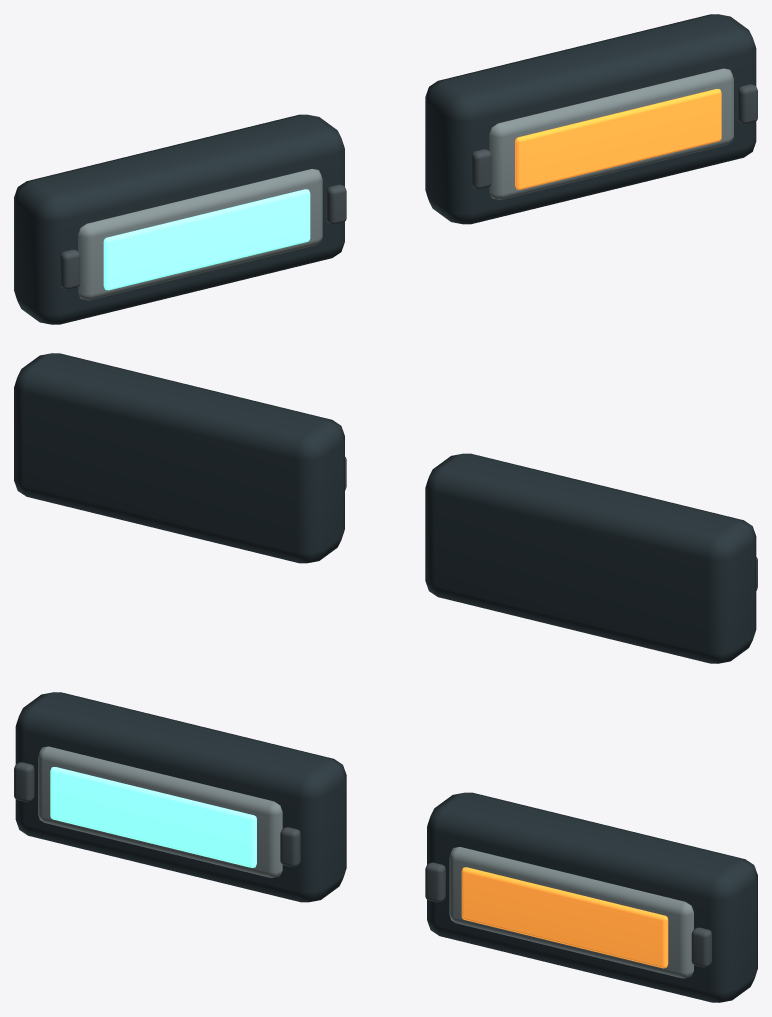
File: wsc-kit-008-puzzle-indicators.glb
3 views of the same model, one above another, from view 1: azimuth 30°, elevation 25°; view 2: azimuth 150°, elevation 25°; view 3: azimuth 330°, elevation 25° (orthographic).
Visible parts, largest first — view 1: Indicator · back shell.001, Indicator · back shell, Indicator · status insert, Indicator · status insert.001, Indicator · rail, Indicator · rail.001, Indicator · fastener.001, Indicator · fastener.003, Indicator · fastener, Indicator · fastener.002; view 2: Indicator · back shell, Indicator · back shell.001; view 3: Indicator · back shell, Indicator · back shell.001, Indicator · status insert.001, Indicator · status insert, Indicator · rail.001, Indicator · rail, Indicator · fastener.002, Indicator · fastener, Indicator · fastener.001, Indicator · fastener.003.
Boxes of the visible parts, x1,y1,x2,y2 form: Indicator · back shell.001: (425, 14, 756, 224); Indicator · back shell: (14, 114, 344, 324); Indicator · status insert: (103, 189, 310, 290); Indicator · status insert.001: (515, 89, 721, 189); Indicator · rail: (78, 169, 322, 300); Indicator · rail.001: (489, 68, 733, 199); Indicator · fastener.001: (326, 184, 346, 224); Indicator · fastener.003: (737, 84, 757, 124); Indicator · fastener: (60, 249, 80, 289); Indicator · fastener.002: (471, 149, 491, 188); Indicator · back shell: (425, 453, 756, 663); Indicator · back shell.001: (14, 353, 344, 563); Indicator · back shell: (15, 692, 346, 902); Indicator · back shell.001: (427, 792, 757, 1002); Indicator · status insert.001: (461, 867, 668, 968); Indicator · status insert: (50, 767, 256, 867); Indicator · rail.001: (449, 847, 693, 978); Indicator · rail: (38, 746, 282, 877); Indicator · fastener.002: (425, 862, 445, 902); Indicator · fastener: (14, 762, 34, 802); Indicator · fastener.001: (280, 827, 300, 866); Indicator · fastener.003: (691, 927, 711, 967).
Size of the model in its own units: 1.33 by 0.23 by 0.157.
